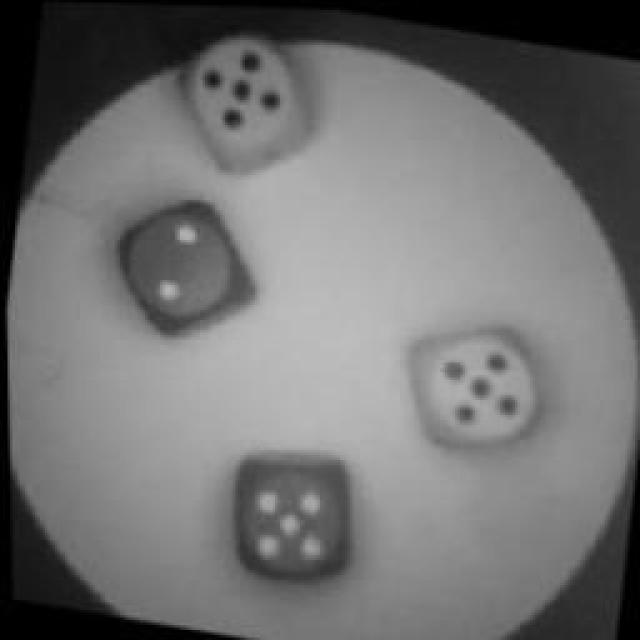dice_2: (99, 184, 261, 348)
dice_5: (398, 301, 558, 461), (214, 440, 371, 595), (168, 18, 322, 174)
